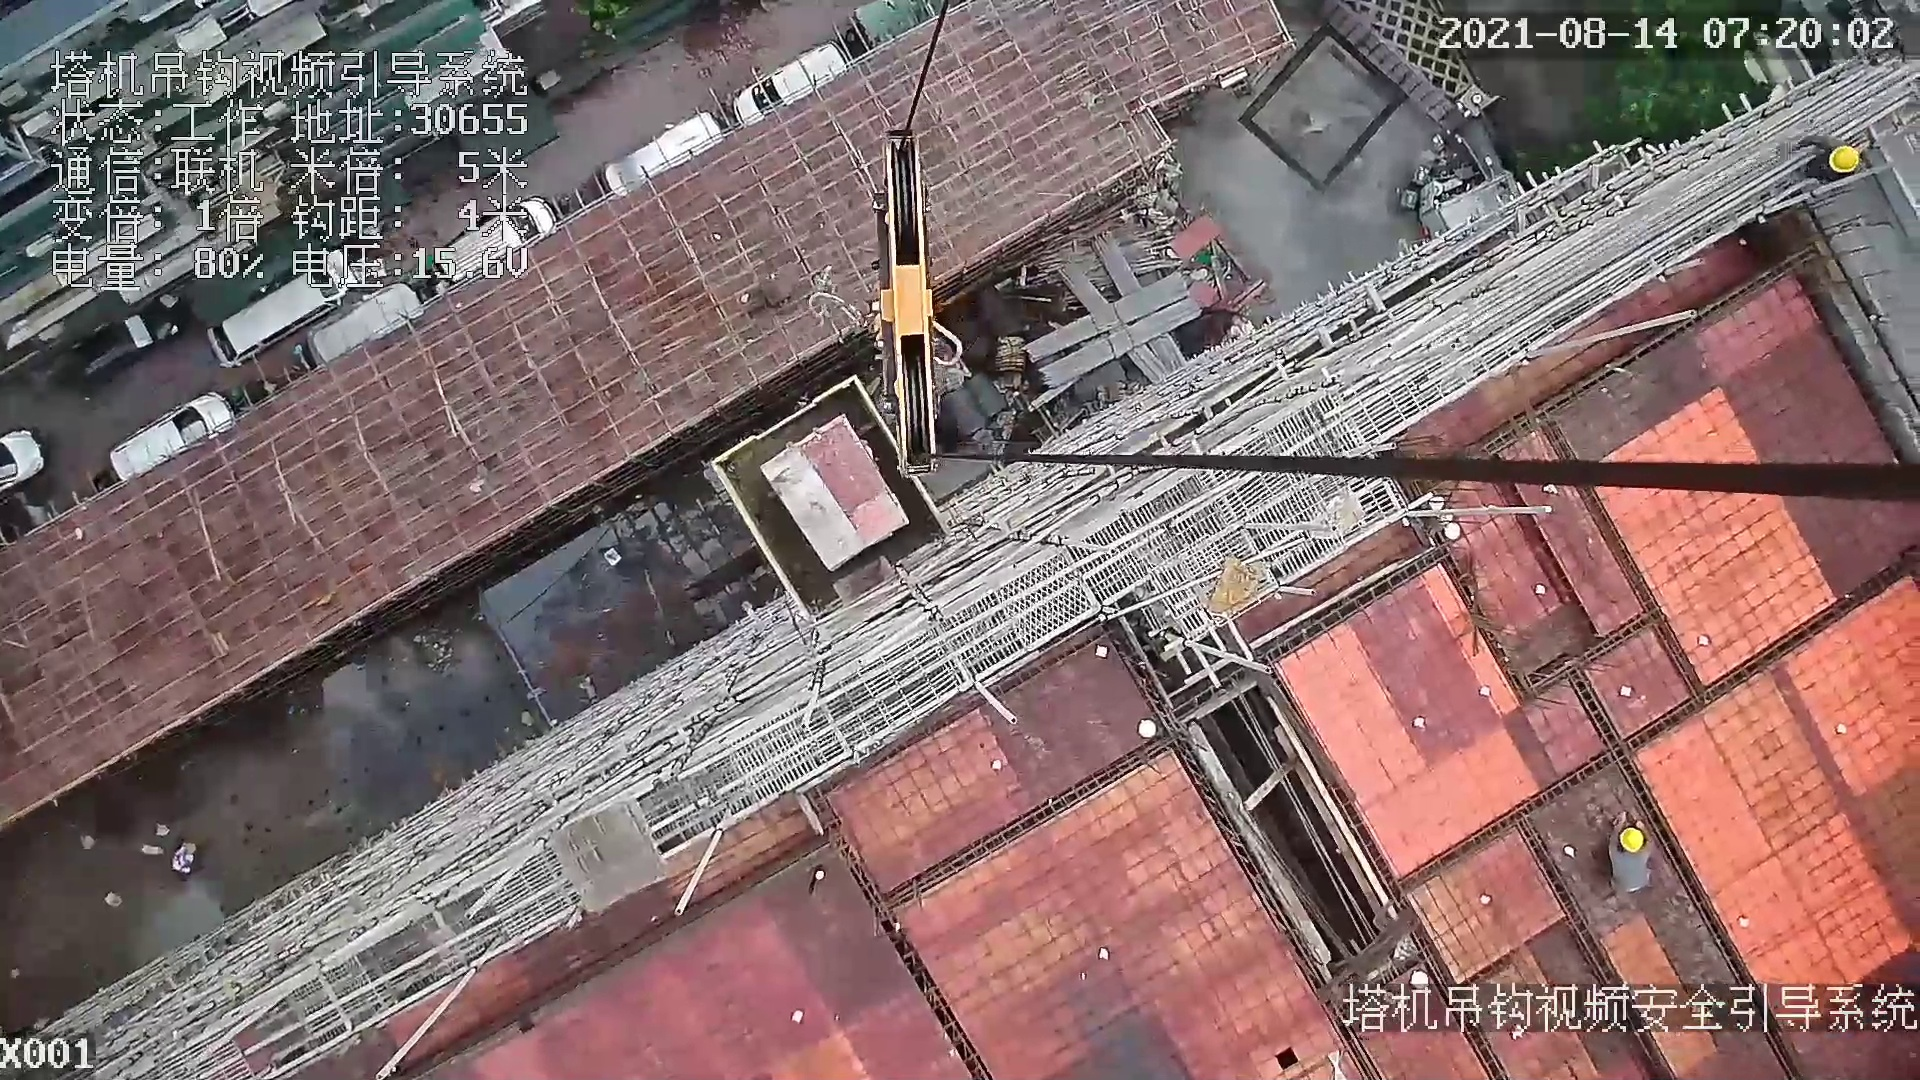helmet: (1616, 821, 1651, 858)
hook: (858, 119, 968, 480)
person: (1805, 128, 1872, 190), (1609, 817, 1660, 895)
